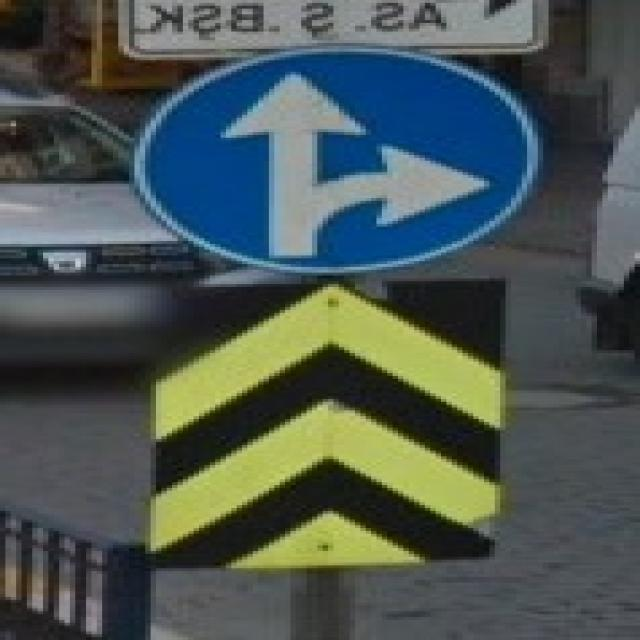Straight or Right: (138, 43, 547, 272)
